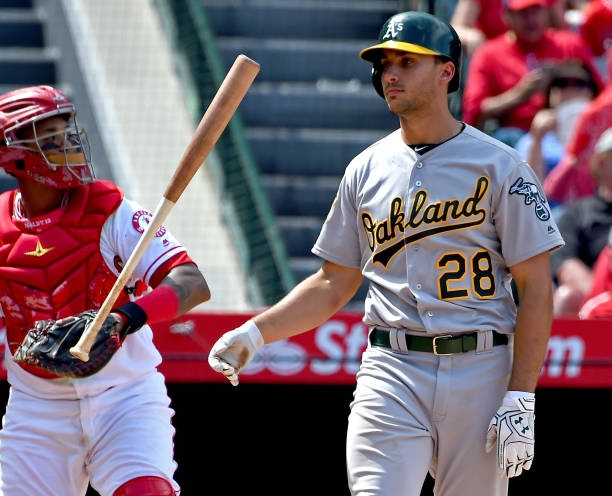bita: (76, 55, 263, 360)
